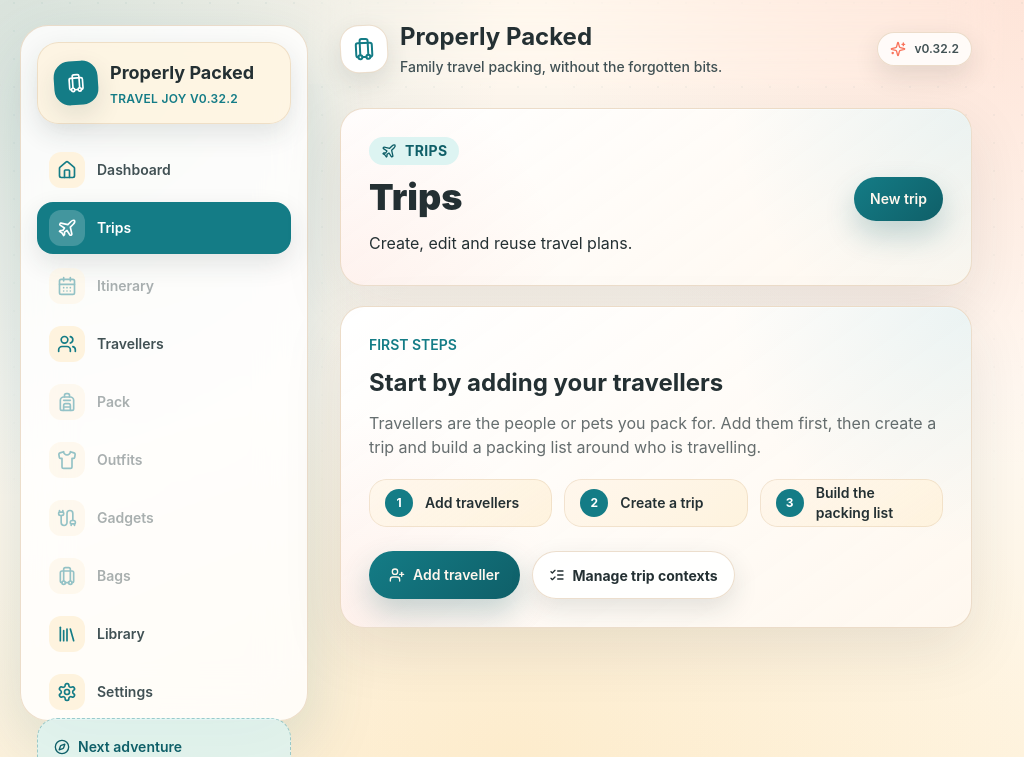
Test: Properly Packed app shell › shows the version on the settings screen
Click the link "Settings": (101, 692) top-left (49, 674), bottom-right (153, 710)
(page scrolled)
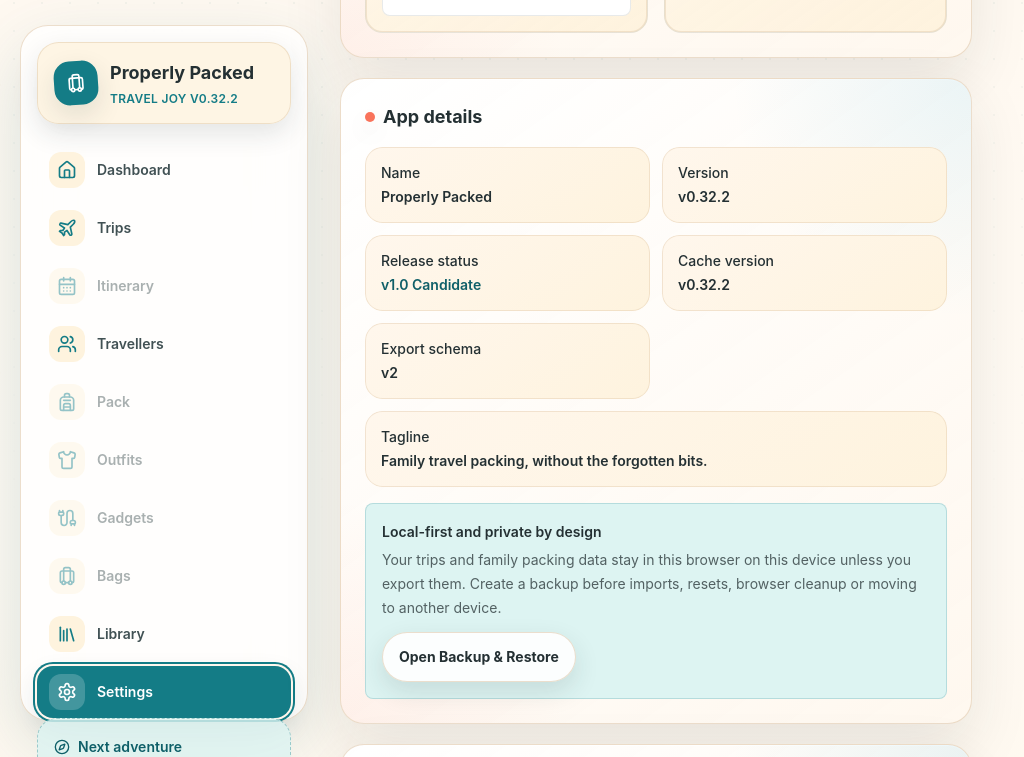
Now the text "v1.0 Candidate" is shown, box top-left (381, 276), bottom-right (481, 293)
Now the text "Export schema" is shown, box top-left (381, 340), bottom-right (481, 357)
Now the text "v2" is shown, box top-left (381, 364), bottom-right (398, 381)
